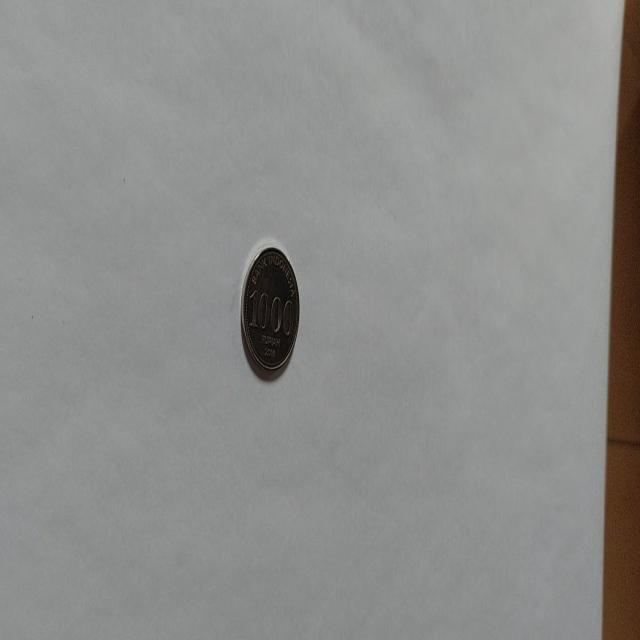seribu rupiah koin: (238, 241, 300, 381)
